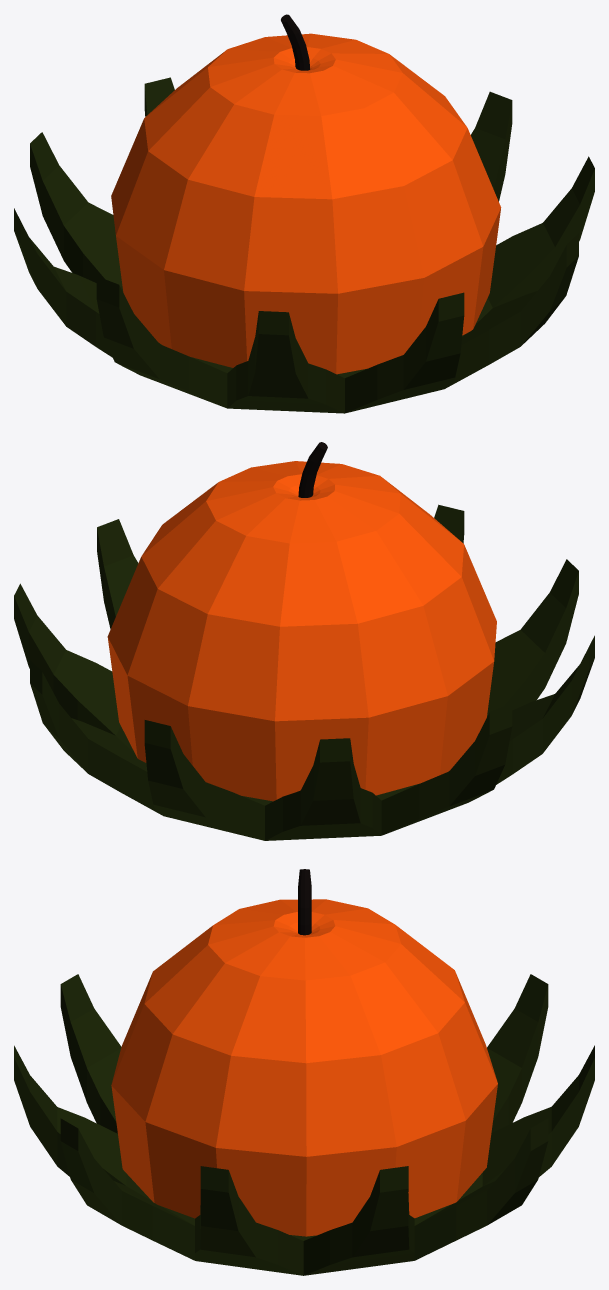
Rendered from Bomb Fruit.fbx.
3 views of the same model, one above another, from view 1: azimuth 30°, elevation 25°; view 2: azimuth 150°, elevation 25°; view 3: azimuth 270°, elevation 25° (orthographic).
Visible parts, largest first — view 1: Sphere001, Cylinder001, Cylinder002; view 2: Sphere001, Cylinder001, Cylinder002; view 3: Sphere001, Cylinder001, Cylinder002.
Part boxes in pixels (x1=…): Sphere001: x1=111, y1=33, x2=501, y2=374; Cylinder001: x1=14, y1=77, x2=594, y2=413; Cylinder002: x1=281, y1=14, x2=309, y2=70; Sphere001: x1=107, y1=461, x2=496, y2=801; Cylinder001: x1=14, y1=504, x2=594, y2=840; Cylinder002: x1=298, y1=442, x2=327, y2=497; Sphere001: x1=111, y1=899, x2=497, y2=1236; Cylinder001: x1=14, y1=974, x2=594, y2=1275; Cylinder002: x1=298, y1=869, x2=311, y2=935.
Bounding box in the file's own units: 45.7 × 30.32 × 47.26.
